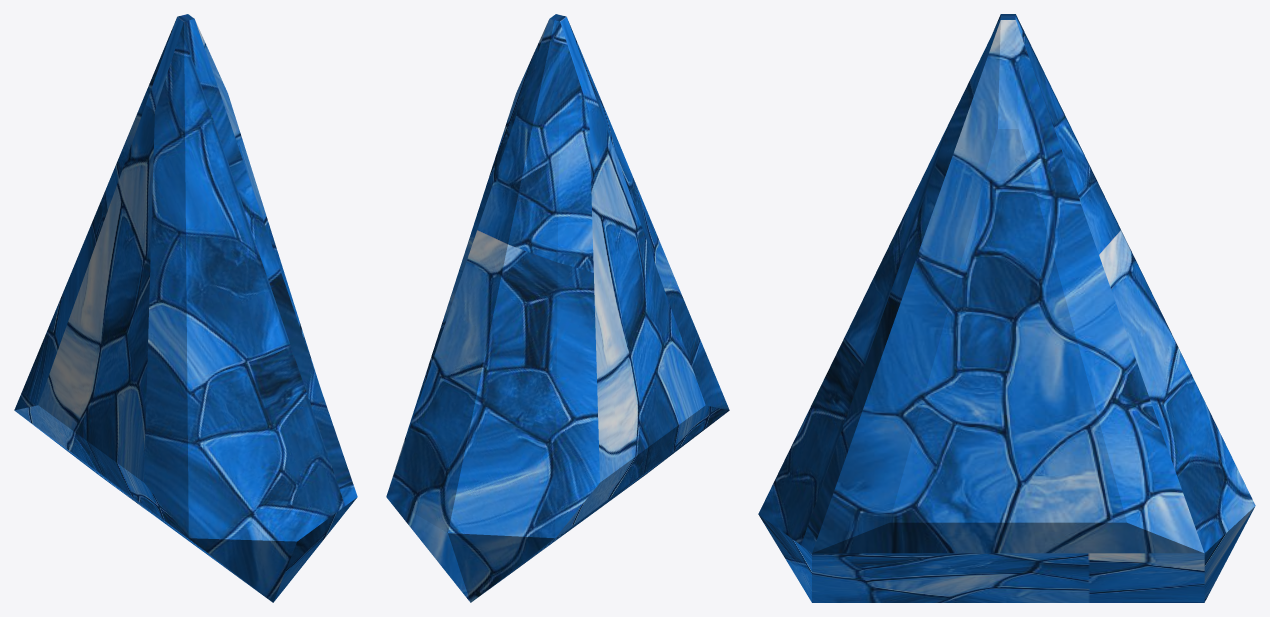
File: gemstone4BlueCompressed.glb
The picture shows the model from 3 angles, left to right: view 1: azimuth 30°, elevation 25°; view 2: azimuth 150°, elevation 25°; view 3: azimuth 270°, elevation 25°; orthographic projection. The views are drawn at different scales.
Parts seen in each view (by area): view 1: gemstone3; view 2: gemstone3; view 3: gemstone3.
Boxes of the visible parts, box(x1,y1,x2,y2) form: gemstone3: box(14, 14, 357, 602); gemstone3: box(386, 14, 729, 602); gemstone3: box(758, 14, 1255, 602).
Bounding box in the file's own units: 0.5 × 1.3 × 1.
Materials: 1 (1 with a texture image).
